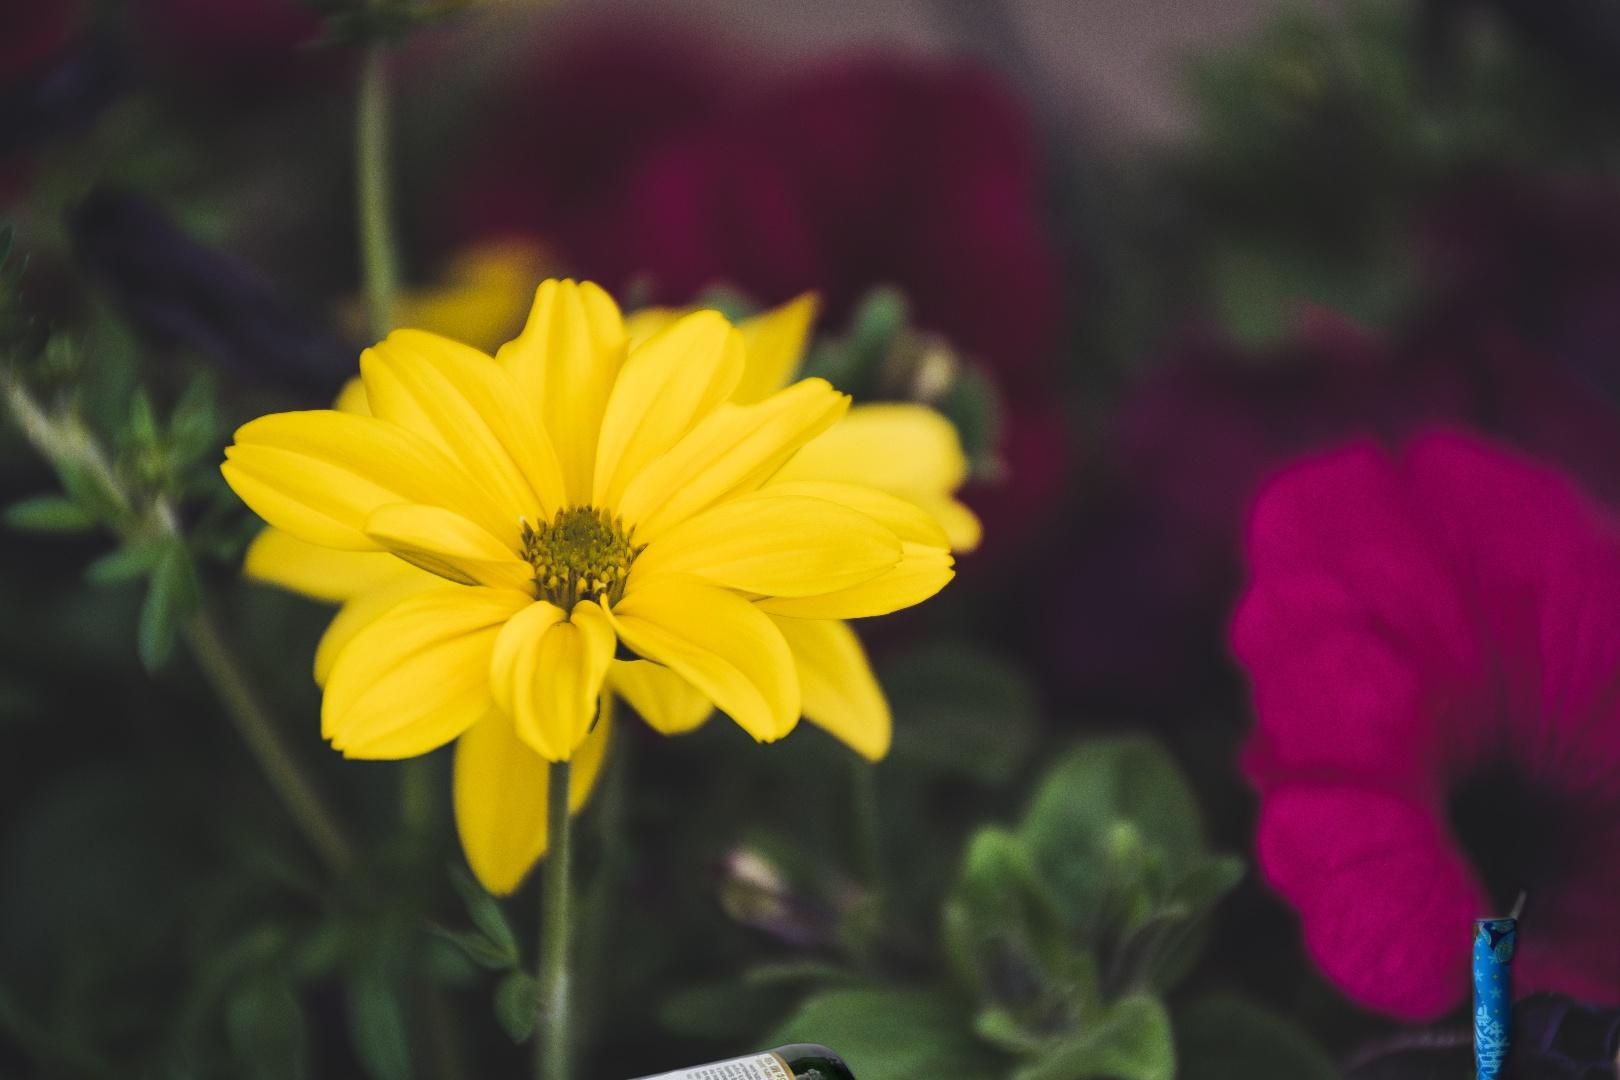glass: (378, 1039, 877, 1080)
penholder: (1431, 722, 1620, 1080)
